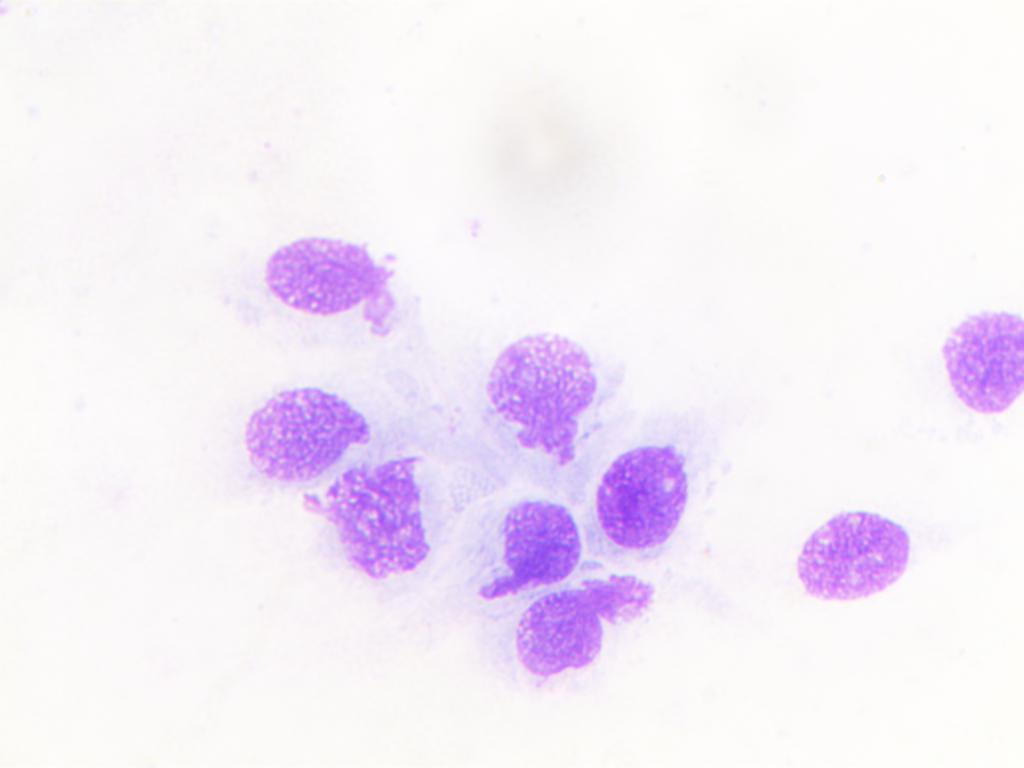epithelial: (284, 447, 460, 619), (257, 212, 418, 353), (769, 484, 930, 625), (481, 314, 601, 459), (903, 288, 1023, 422), (229, 373, 374, 482), (583, 431, 707, 551), (515, 586, 614, 686), (499, 488, 581, 588)
